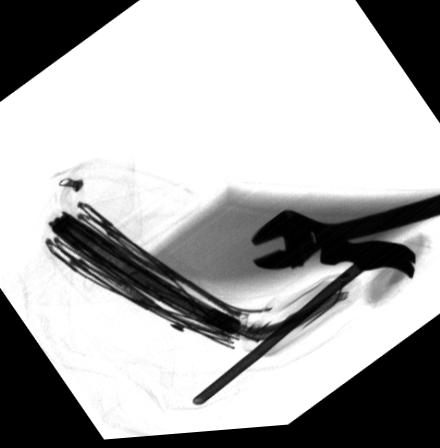Hammer: (190, 238, 415, 408)
Wrench: (249, 201, 440, 274)
